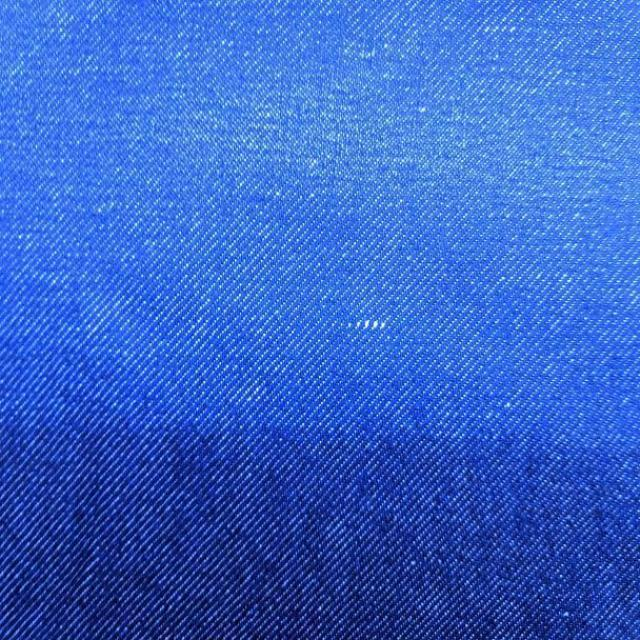Knot: (347, 320, 388, 331)
